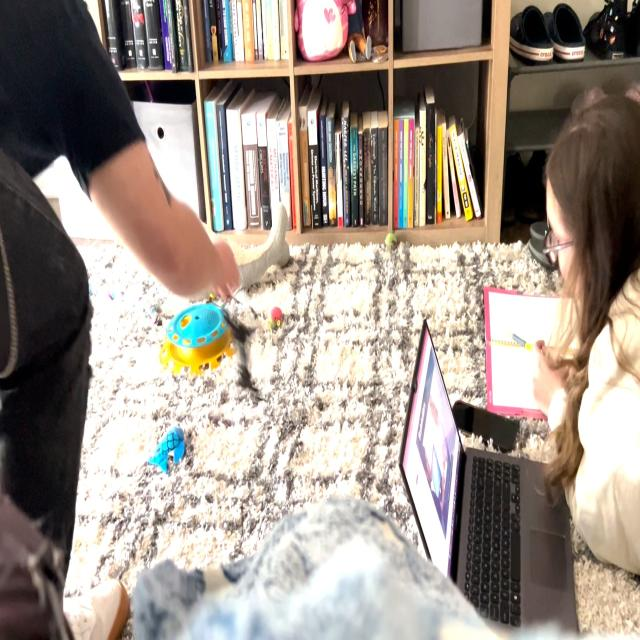drone: (211, 286, 270, 429)
